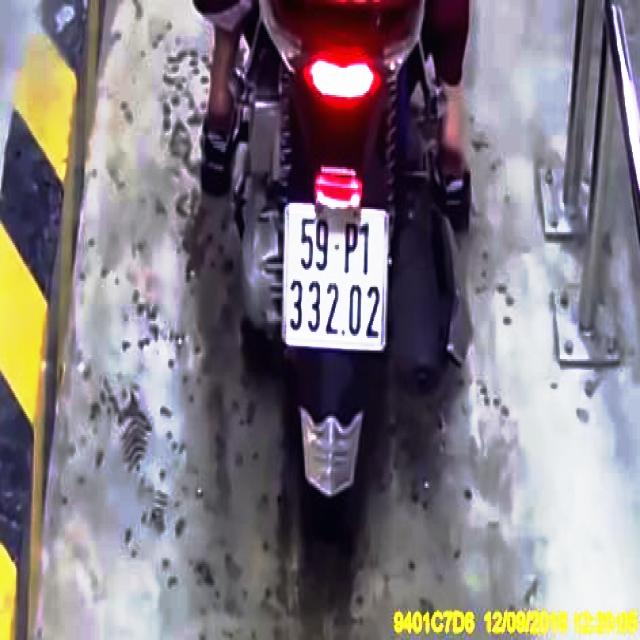license_plate: (285, 206, 387, 344)
